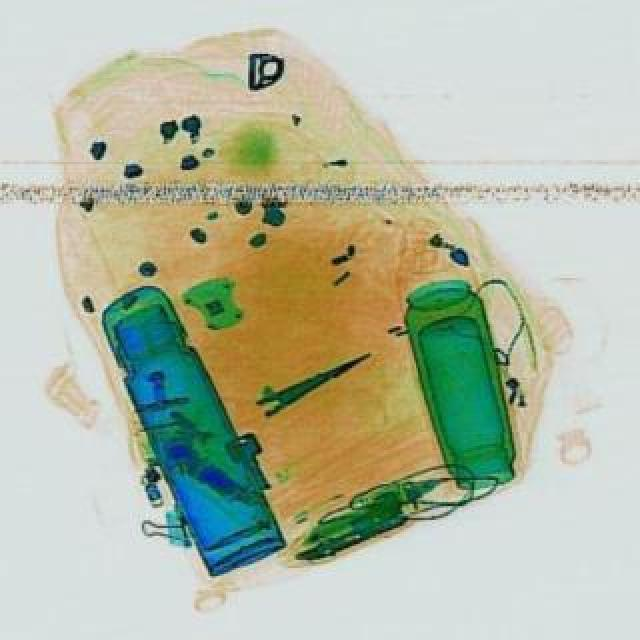knife: (254, 340, 374, 416)
